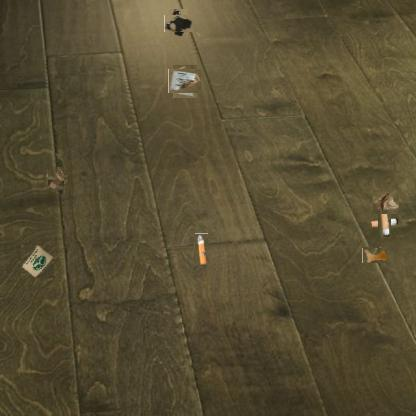dirty: (20, 244, 54, 278), (171, 67, 199, 96), (373, 190, 399, 214), (373, 212, 396, 234), (194, 233, 208, 266), (46, 168, 66, 188)
liquid: (167, 12, 191, 35), (362, 247, 387, 263)
